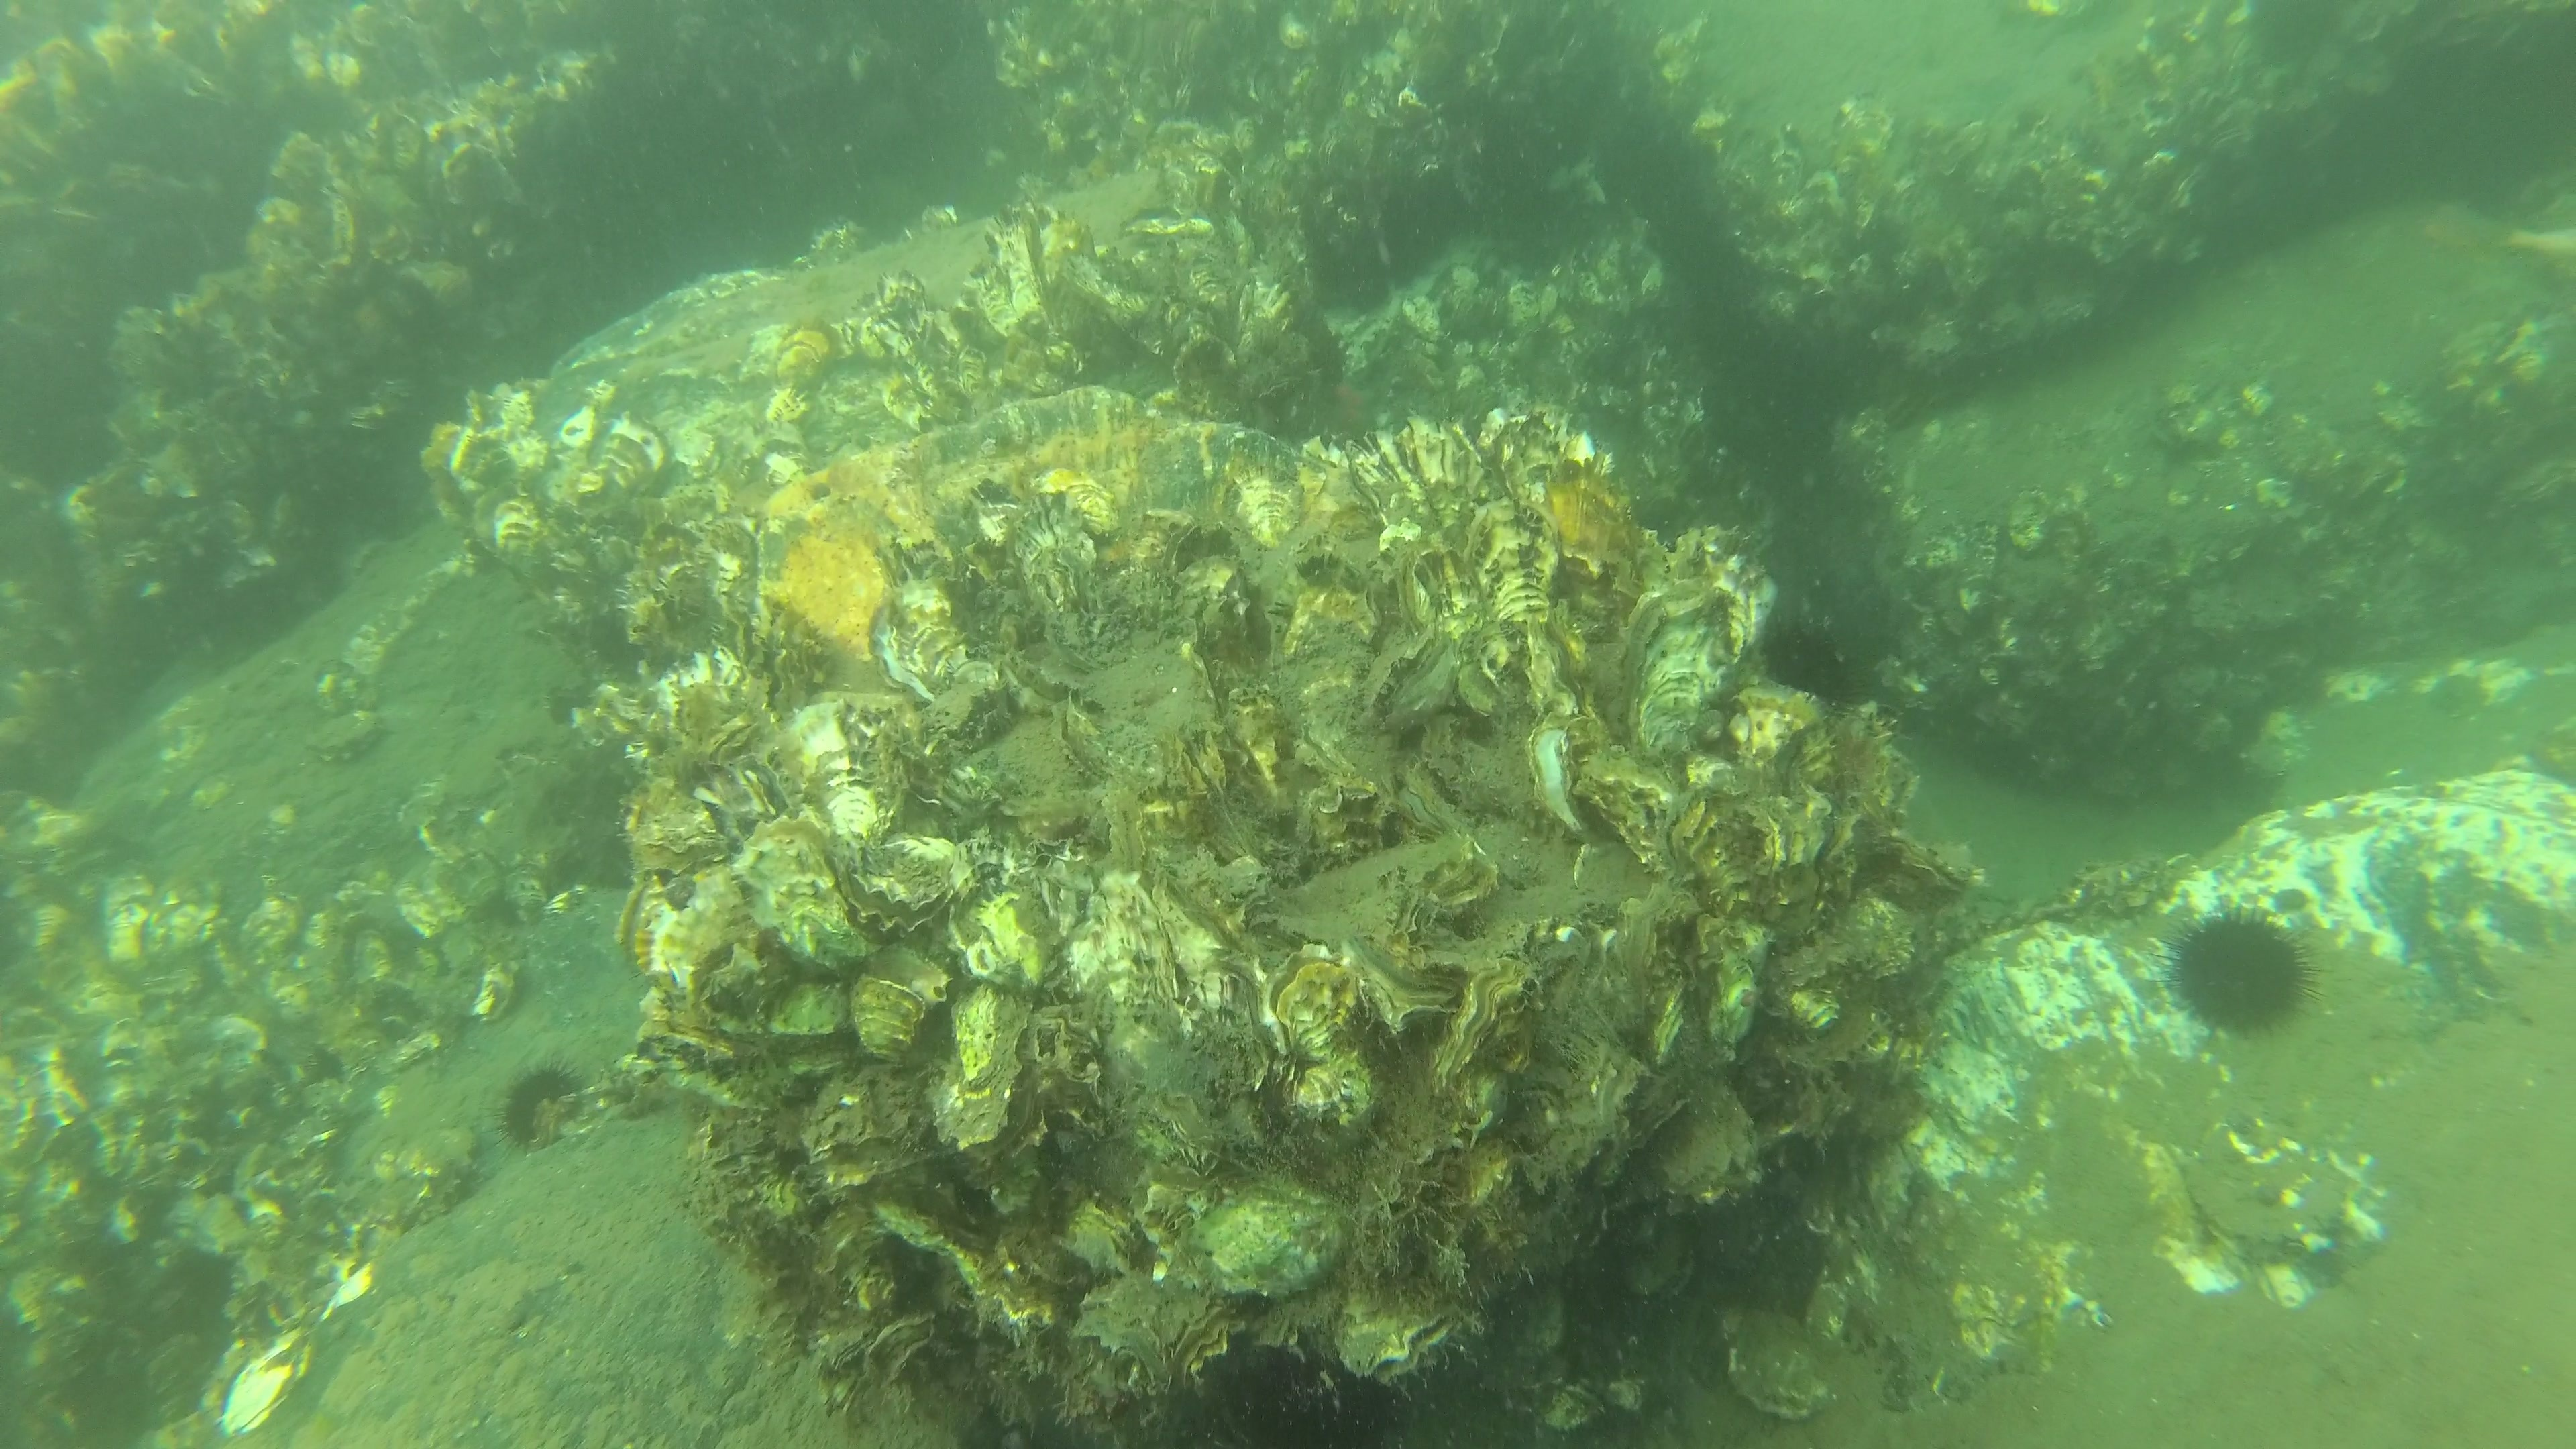echinus: (2166, 906, 2312, 1039), (1759, 621, 1861, 708), (497, 1062, 580, 1152)
